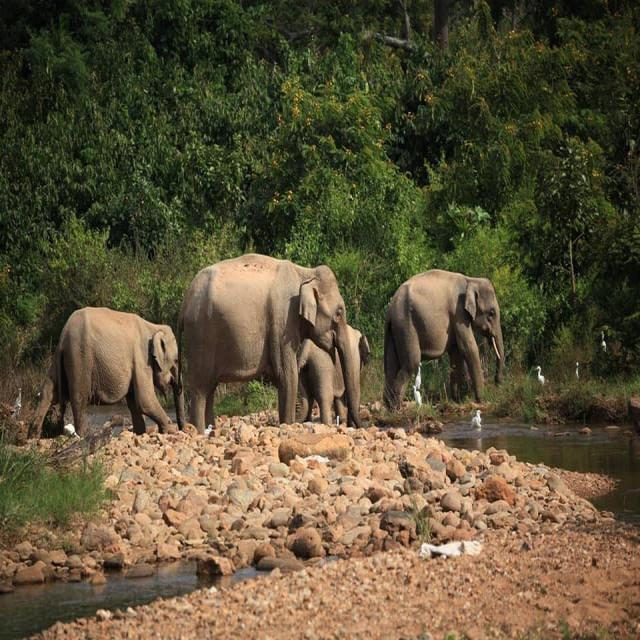Elephant: (181, 246, 369, 449), (47, 287, 178, 464), (387, 259, 515, 435)
